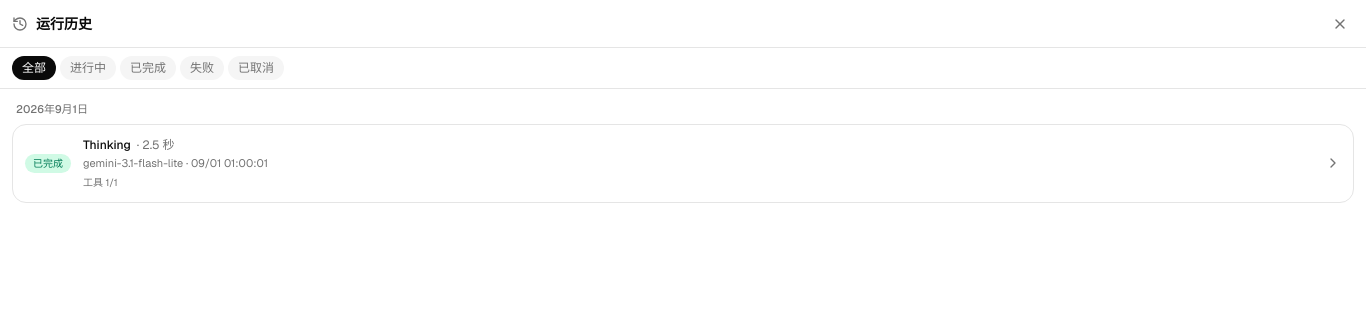
Test: RunHistoryPanel › shows mode, model and opens a read-only tool detail
expect the text "Thinking" is shown: met, box [83,136,131,152]
expect the text "gemini-3.1-flash-lite · 09/01 01:00:01" is shown: met, box [83,156,268,170]
Click the button "Thinking".
click(48, 163)  # box [12,124,1354,203]
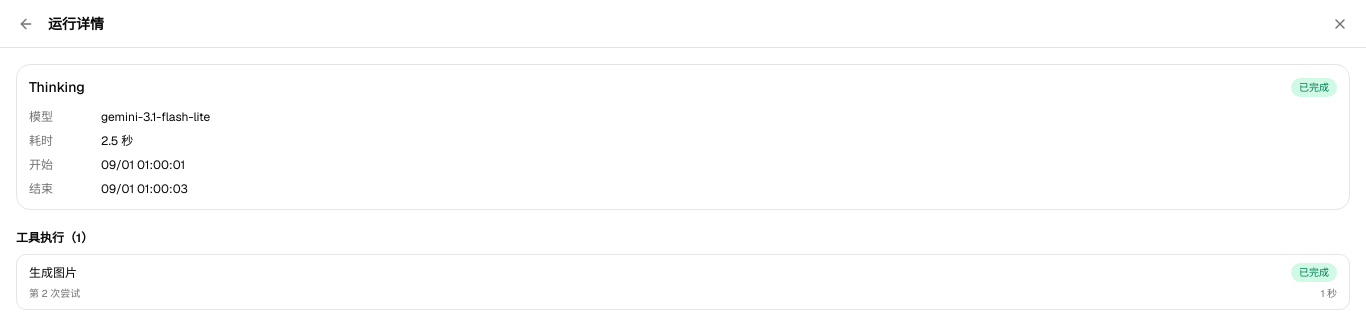
expect the text "生成图片" is shown: met, box [29,264,77,280]
expect the text "第 2 次尝试" is shown: met, box [29,286,80,301]
